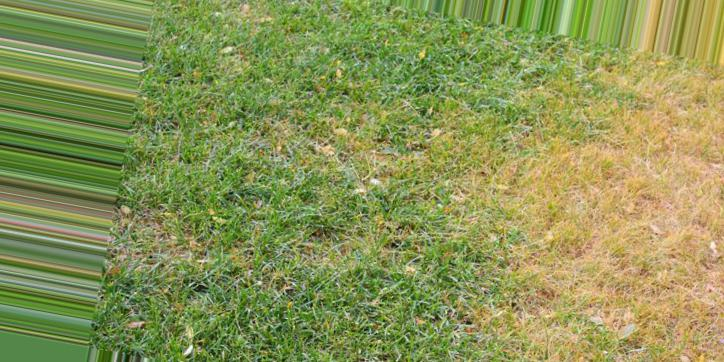patch: (501, 151, 610, 227), (514, 230, 639, 296), (625, 75, 701, 150), (621, 170, 697, 216), (552, 307, 643, 339), (656, 281, 721, 325), (658, 230, 708, 279)
